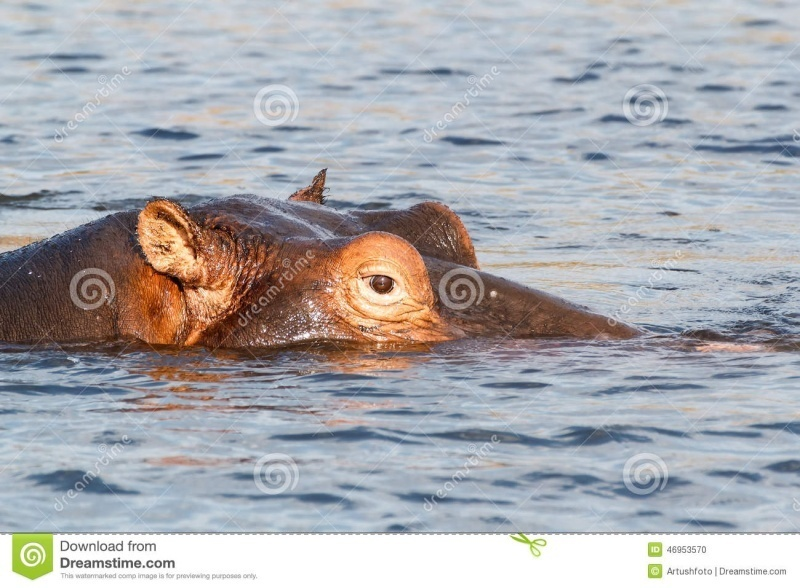hipopotamo: (1, 153, 770, 390)
